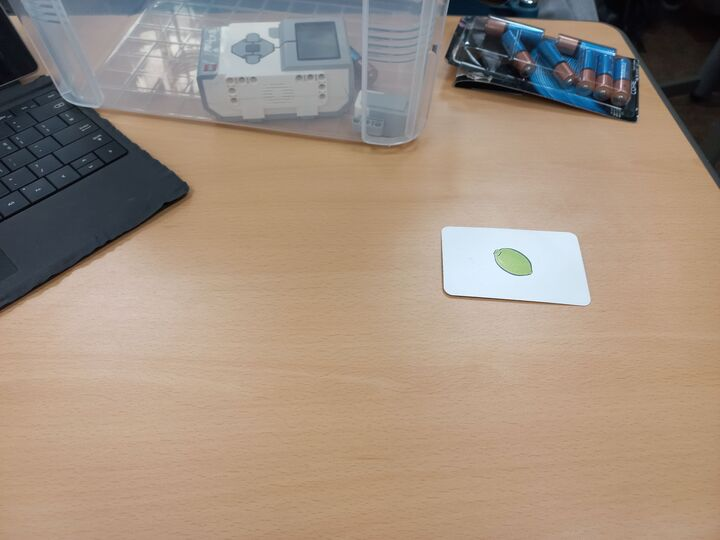lime1: (438, 223, 595, 309)
